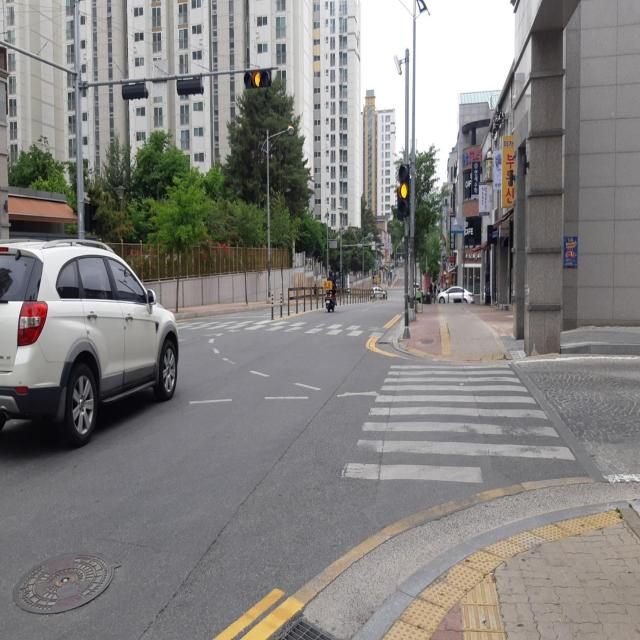횡단보도: (340, 358, 578, 484), (178, 315, 386, 343)
